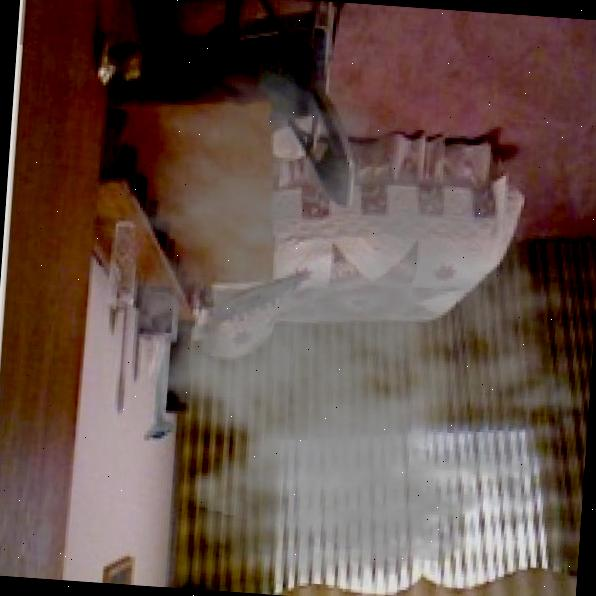smoke: (51, 55, 596, 596)
